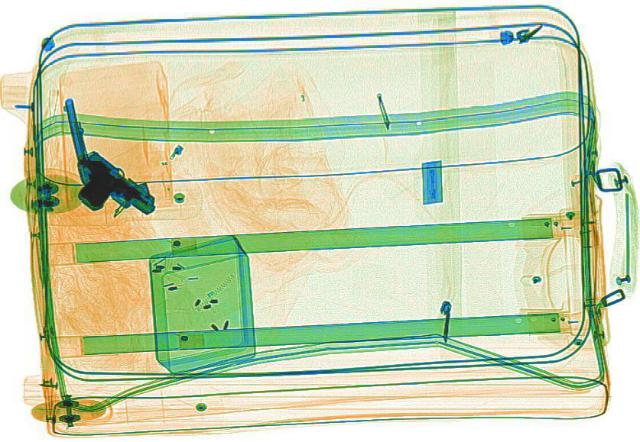Gun: (44, 143, 170, 229), (60, 94, 150, 209)
